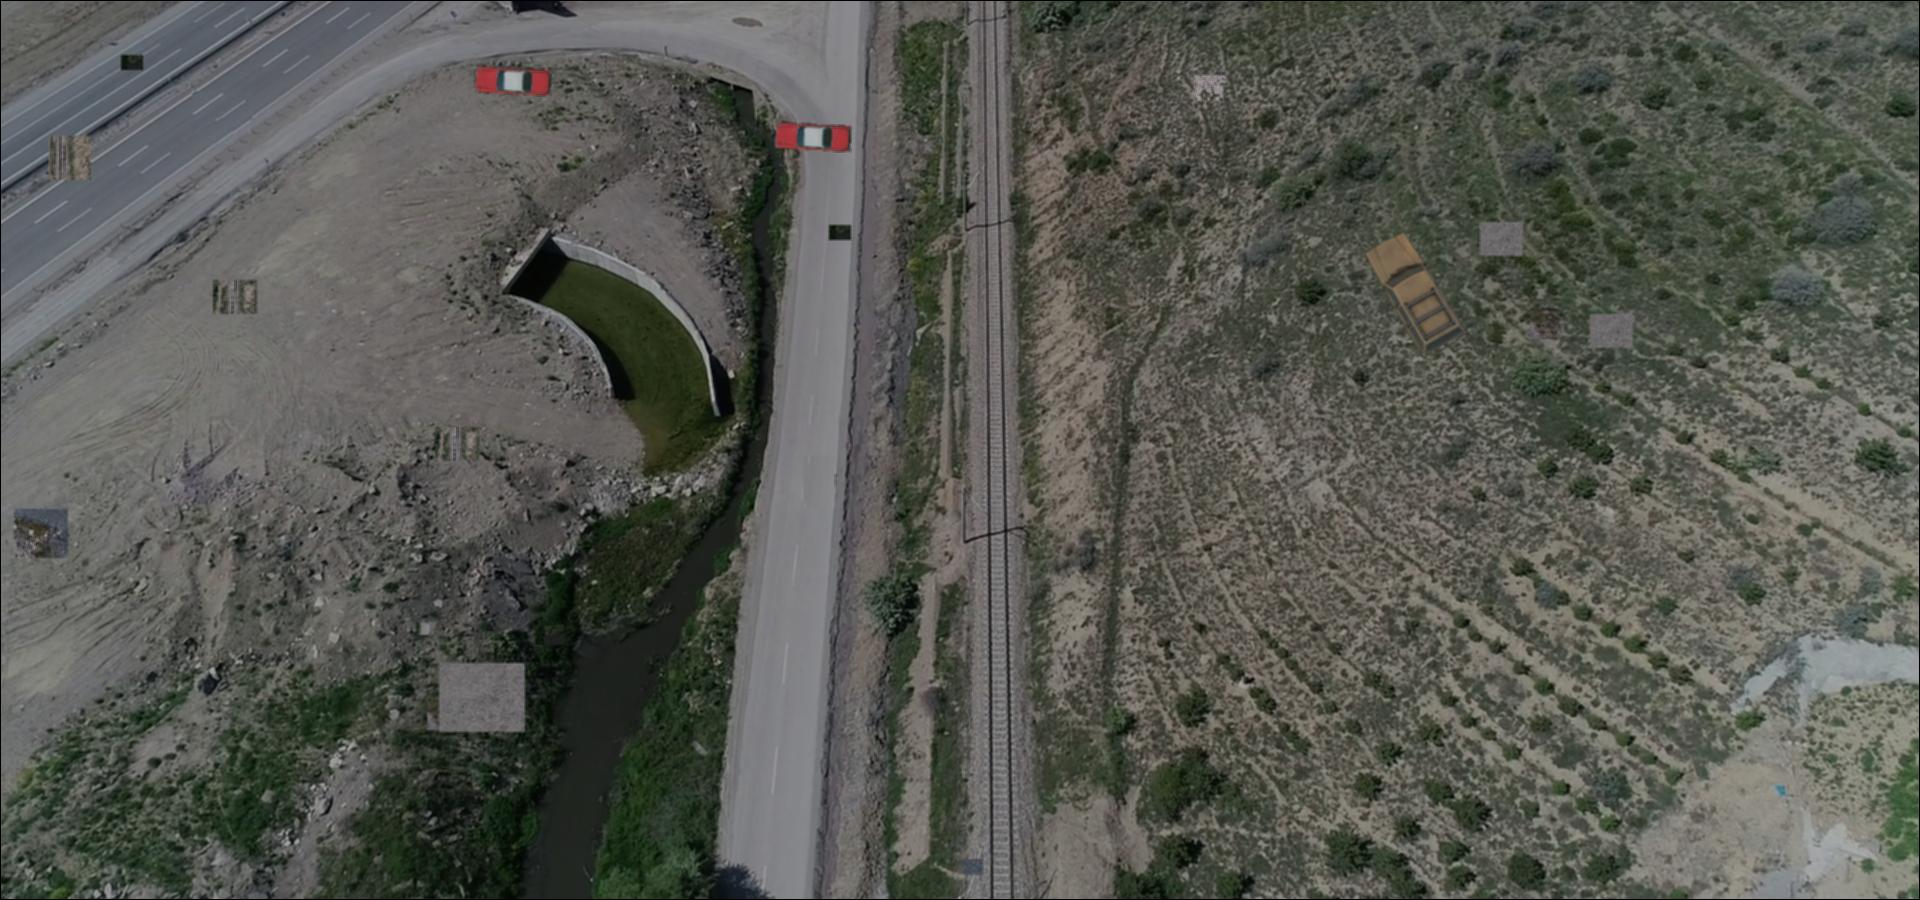arac: (1360, 230, 1468, 362), (771, 120, 853, 153), (471, 64, 553, 97)
